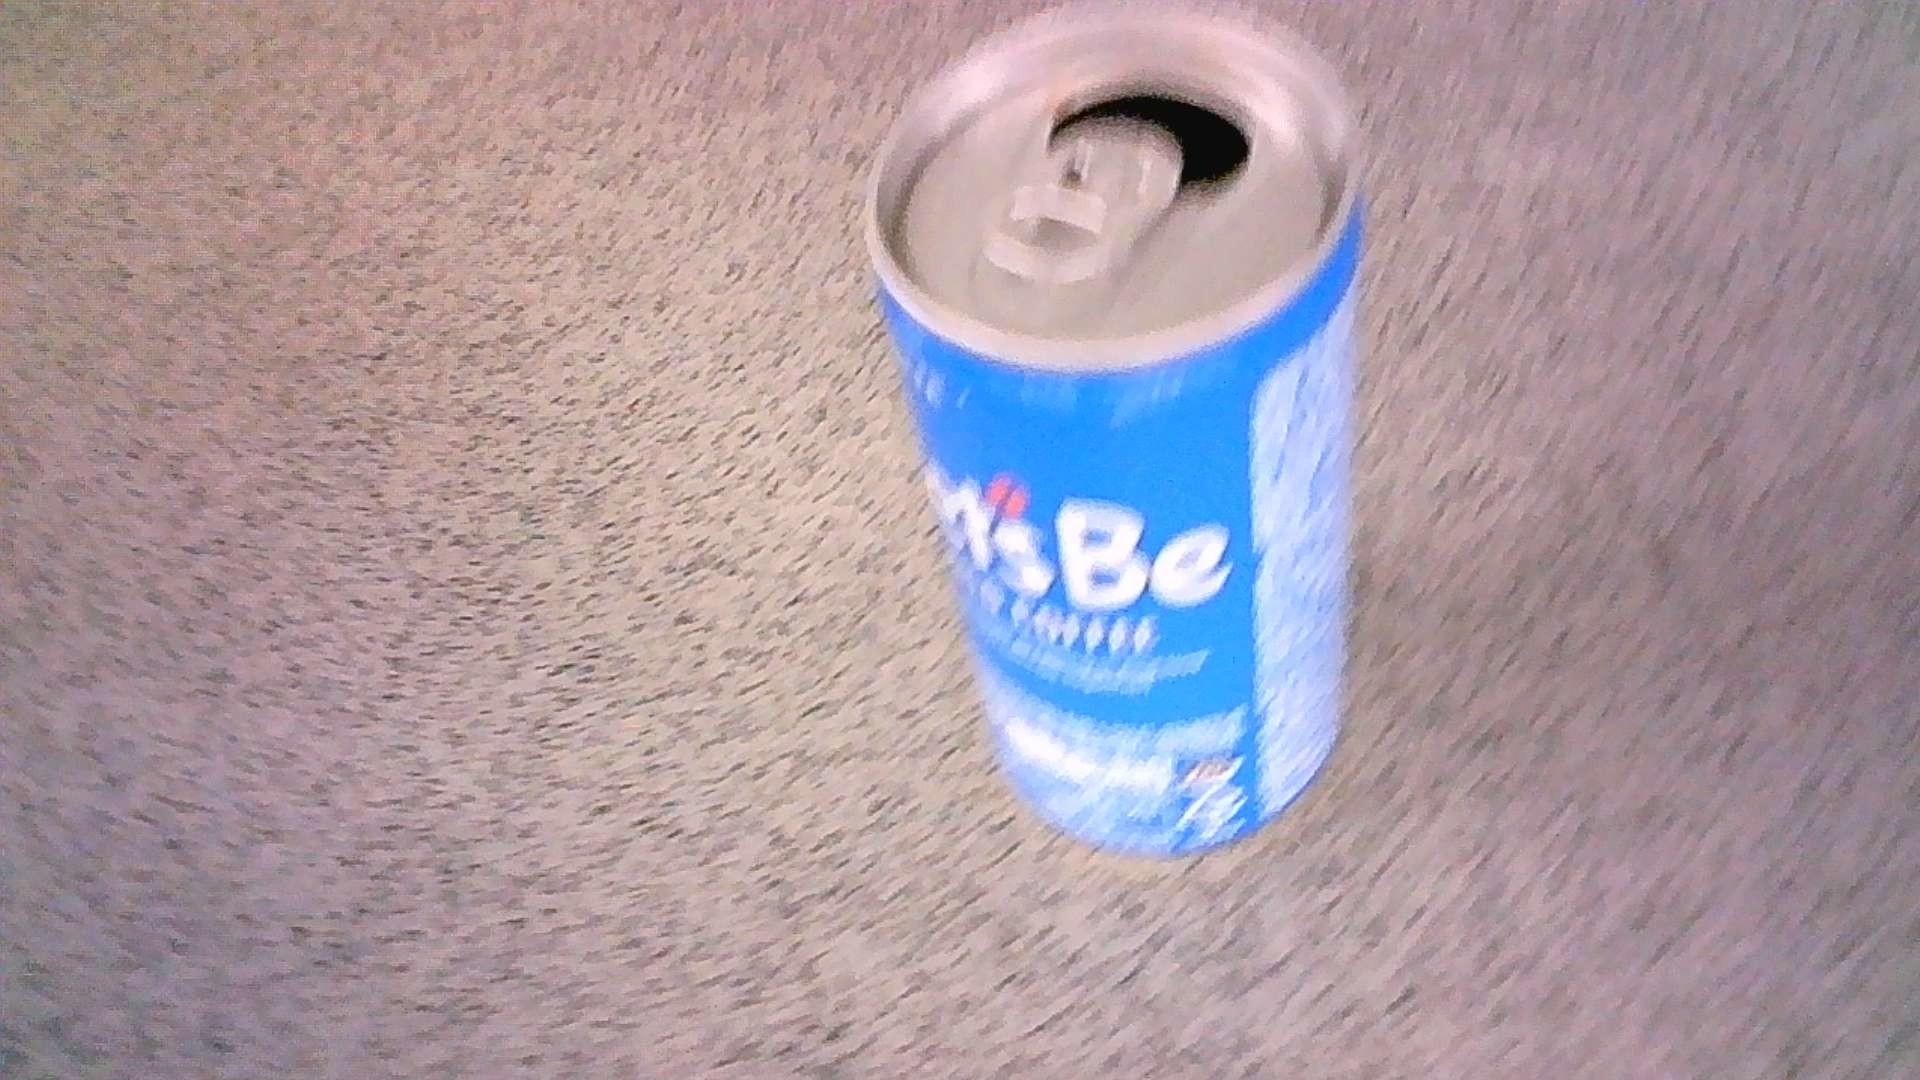letsbe: (864, 1, 1362, 856)
